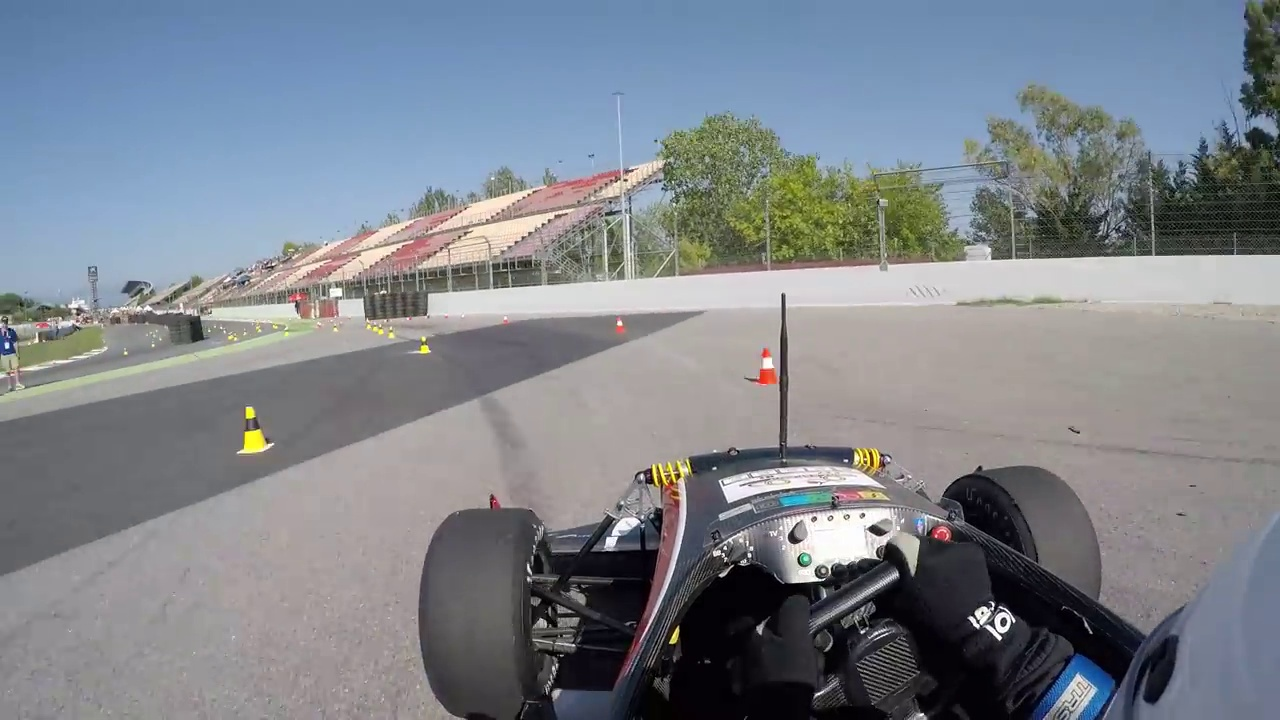Cone: (238, 403, 272, 457), (758, 344, 784, 384)
